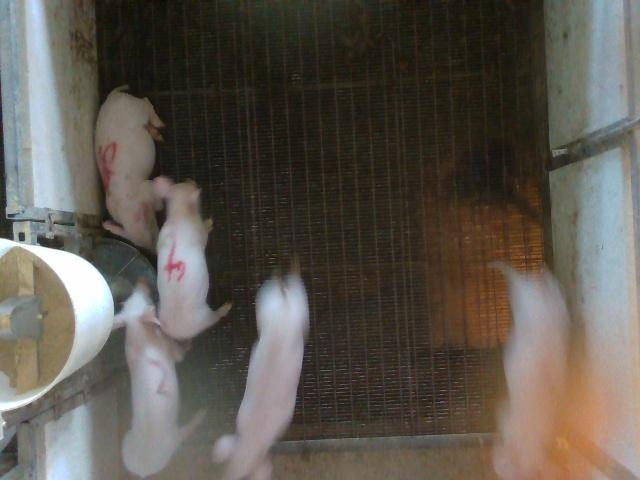pig-1: (492, 262, 568, 479)
pig-2: (115, 284, 205, 477)
pig-4: (152, 176, 231, 340)
pig-5: (95, 86, 164, 252)
